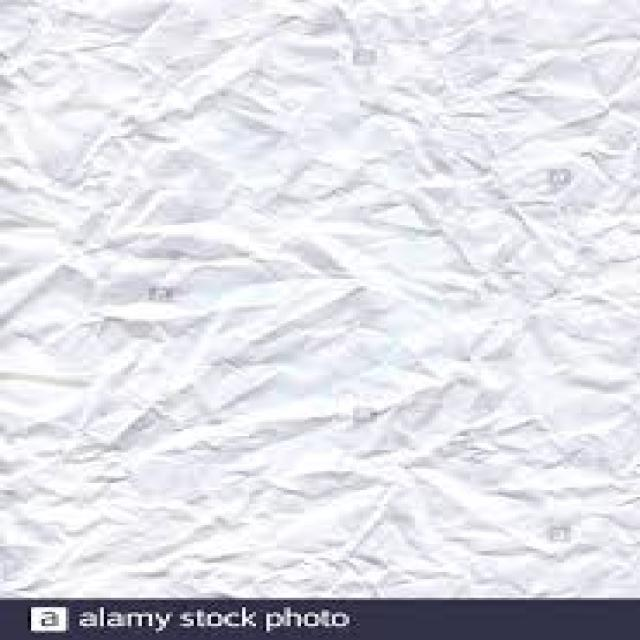paper: (0, 0, 636, 595)
